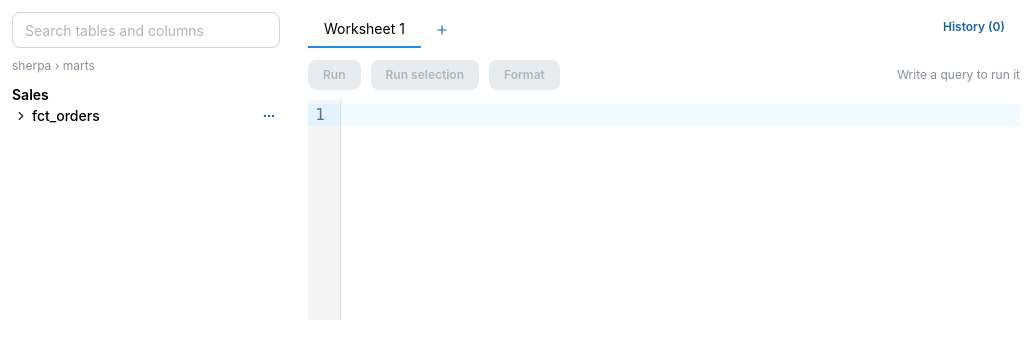
Test case: ExplorerScreen › renames a tab on double-click: Enter keeps the name, Escape and an empty name do not
Double-click the tab "Worksheet 1" at (364, 30), box [308,12,421,48]
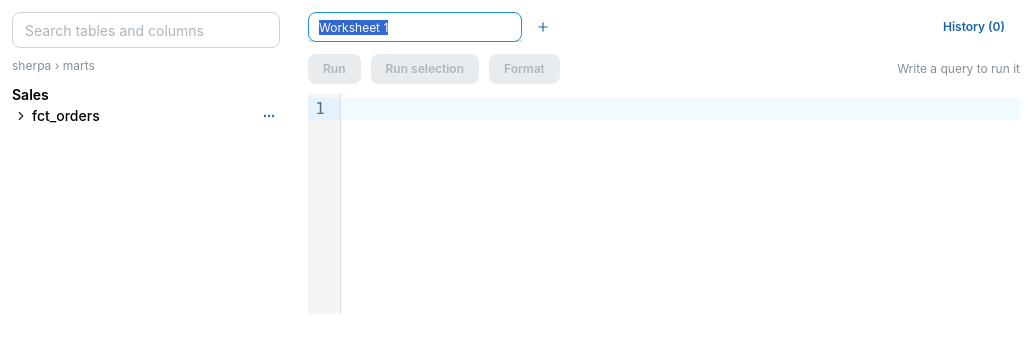
Type keys "Orders{Enter}"
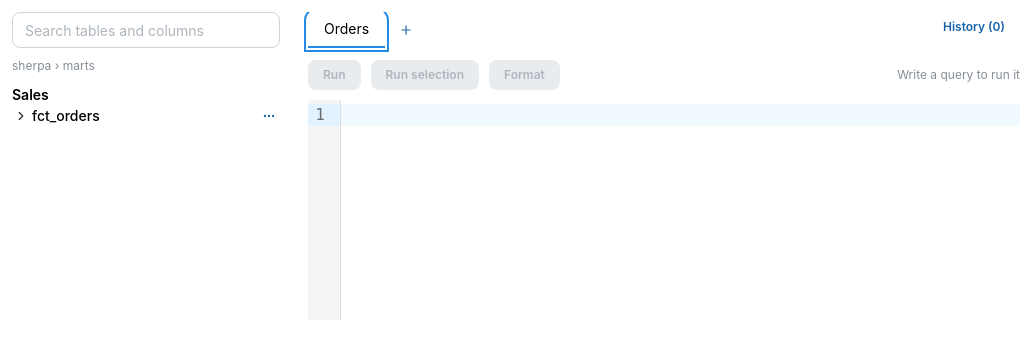
Double-click the tab "Orders" at (347, 30), box [308,12,385,48]
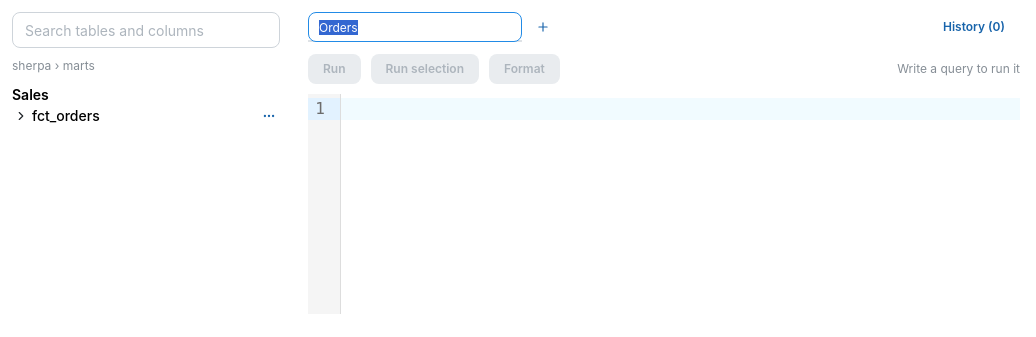
Type keys "Nope{Escape}"
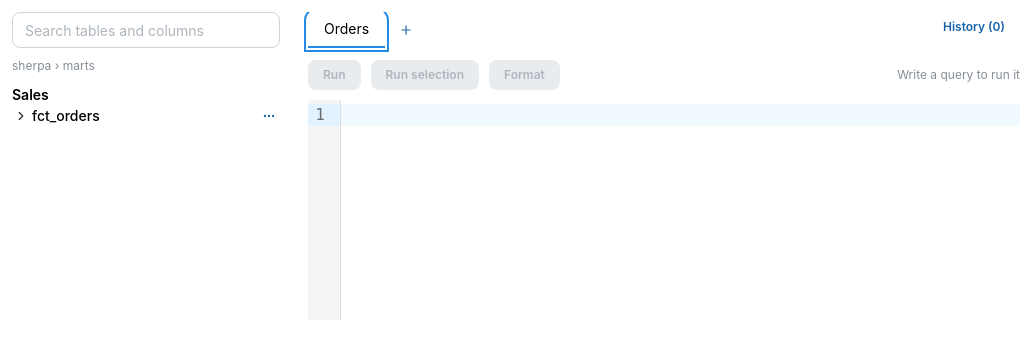
Double-click the tab "Orders" at (347, 30), box [308,12,385,48]
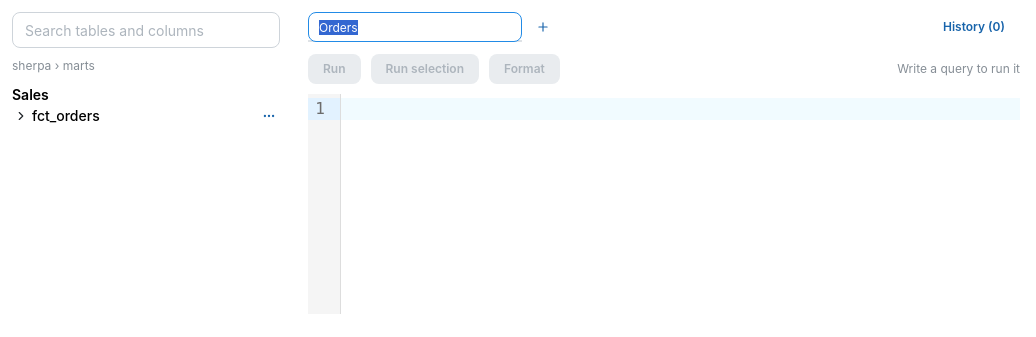
Press Backspace Enter
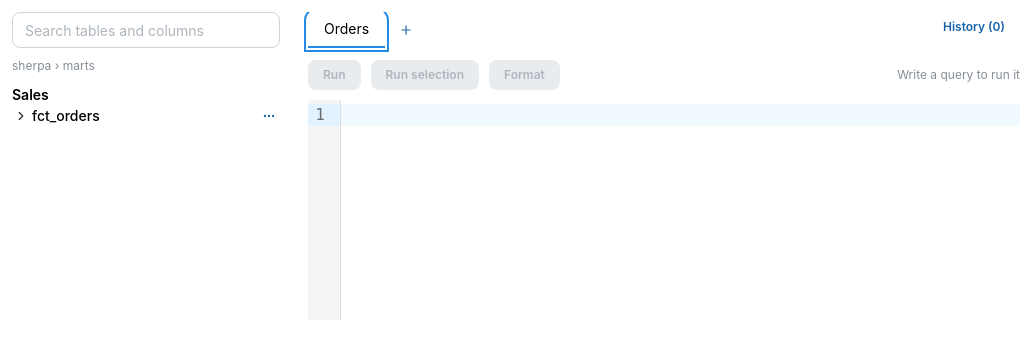
Check: the tabs read "Orders", in this order, box [308,12,385,48]
